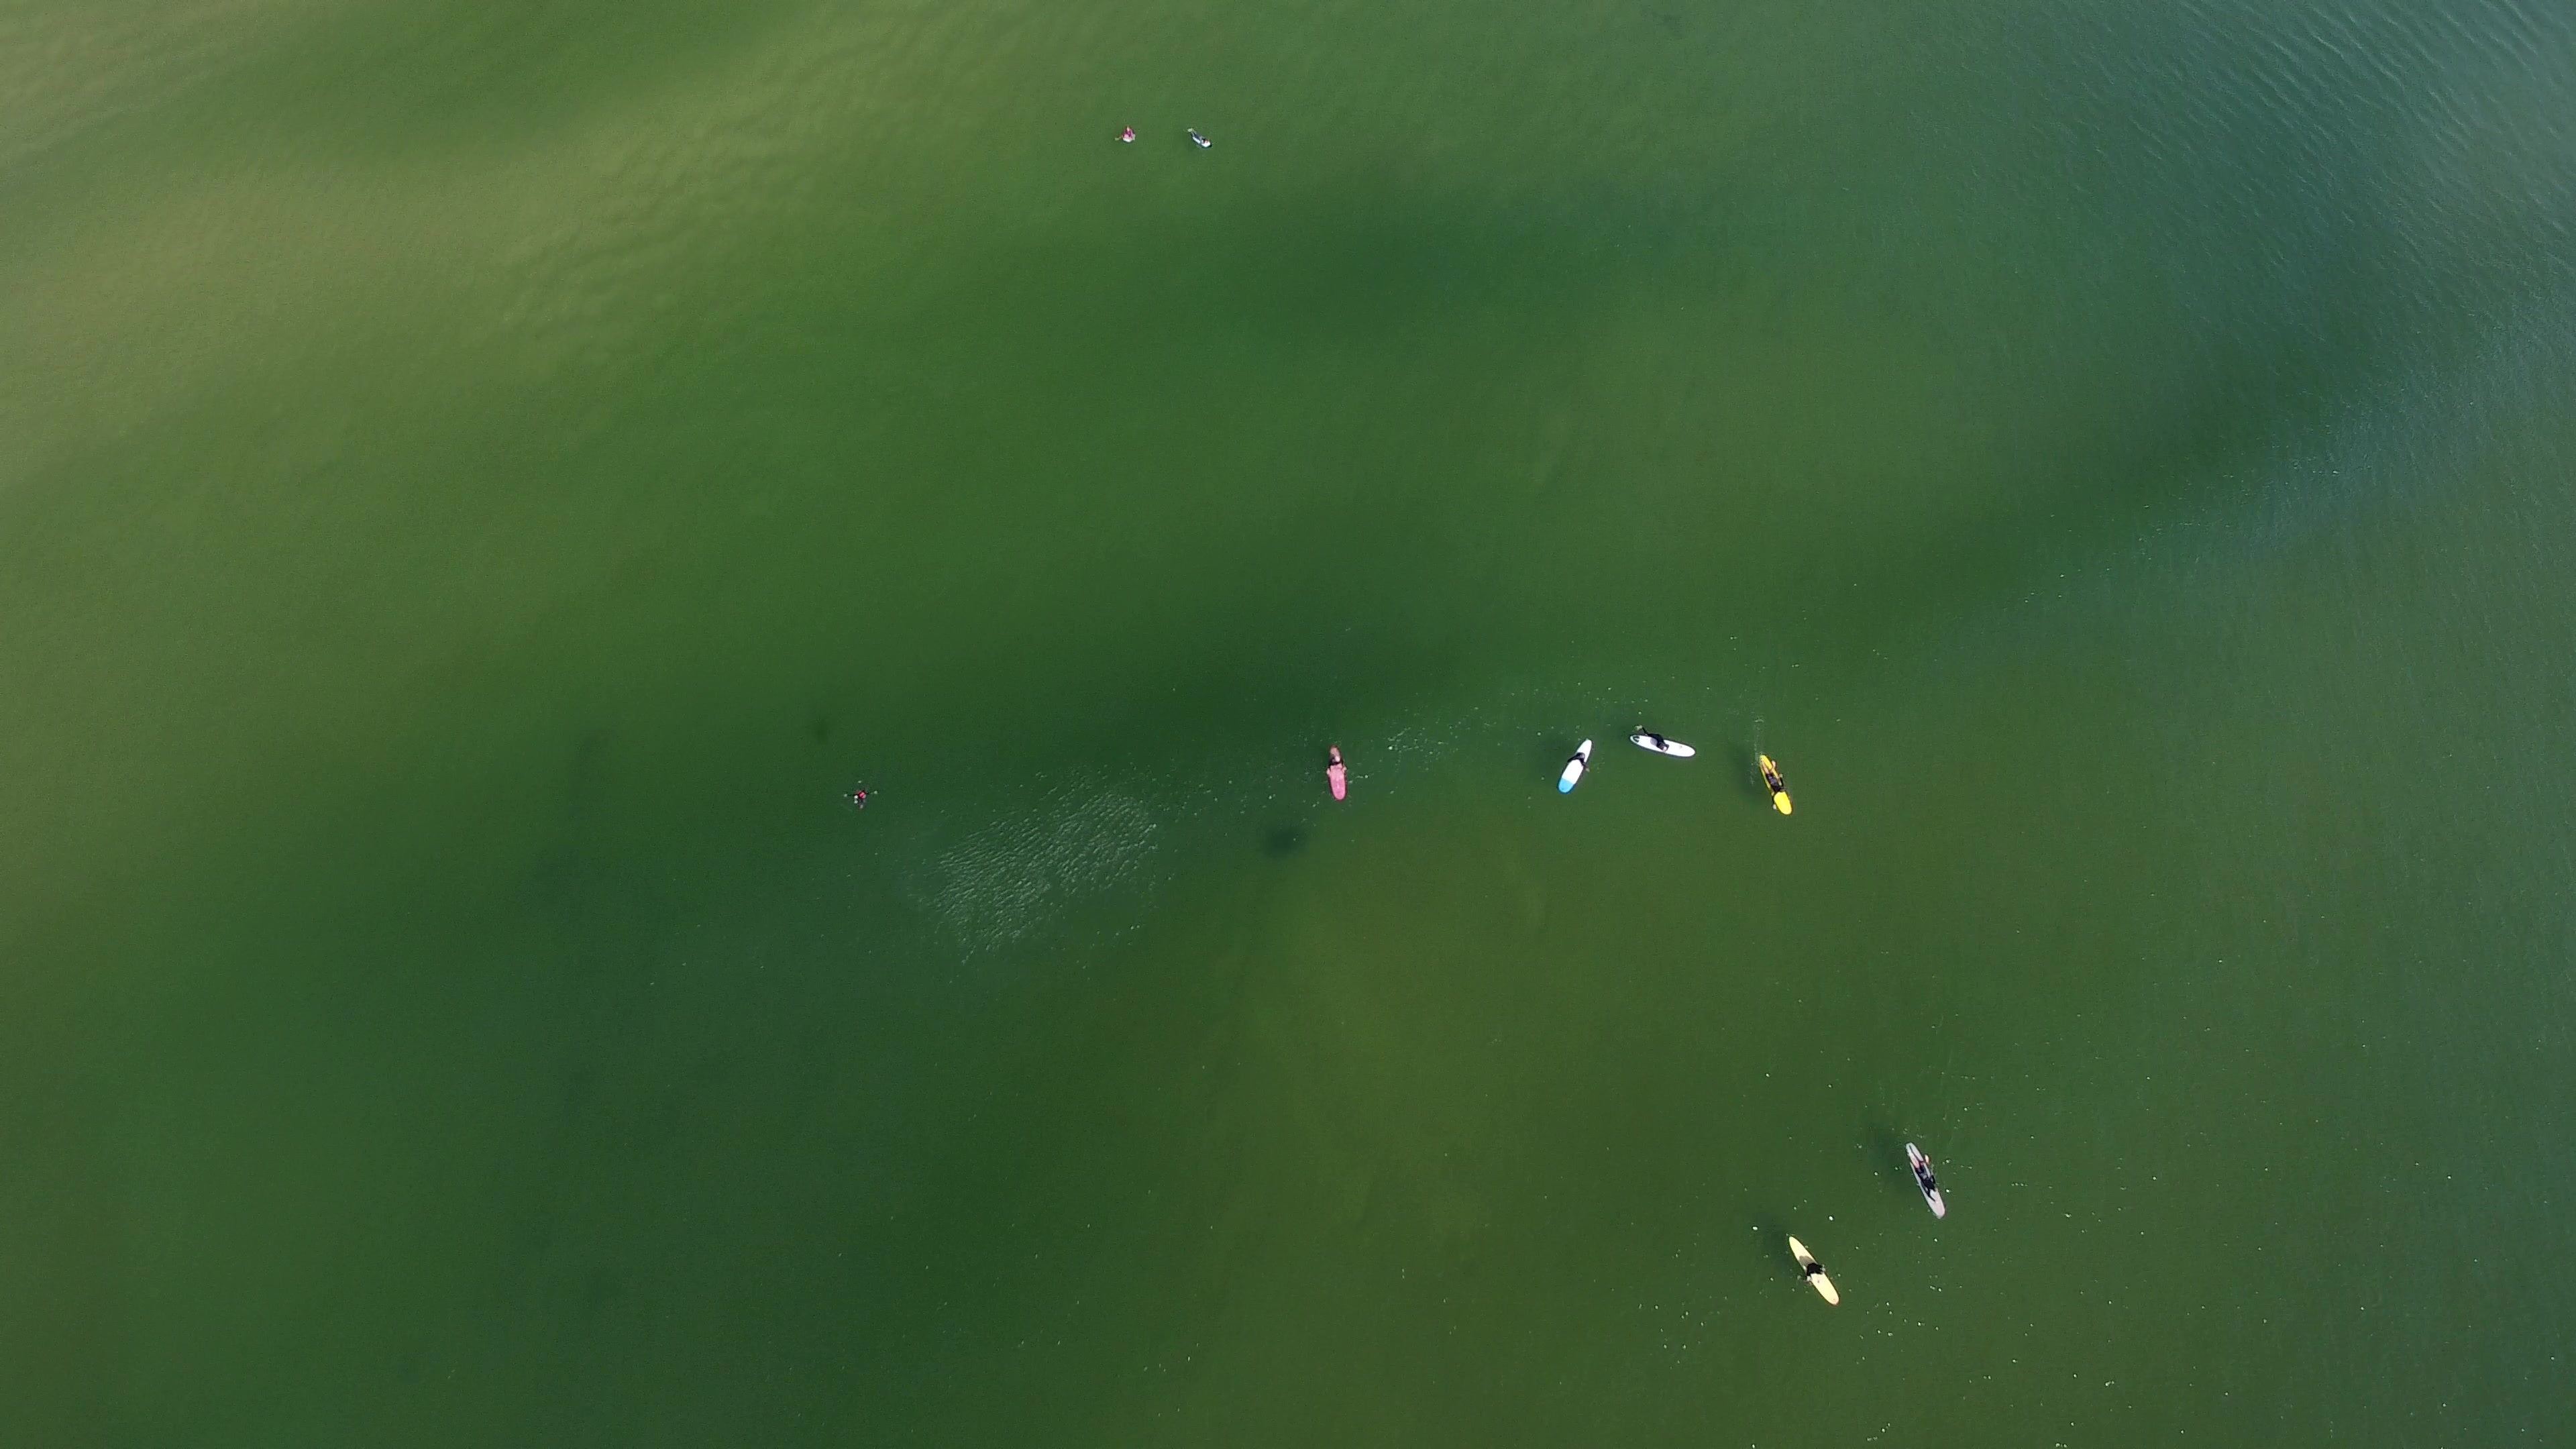surfer: (1893, 1139, 1960, 1228), (1782, 1230, 1844, 1313), (1621, 711, 1709, 764), (1750, 743, 1803, 823), (1322, 727, 1357, 810), (1550, 738, 1599, 794), (1189, 124, 1226, 157), (1116, 124, 1146, 152)
